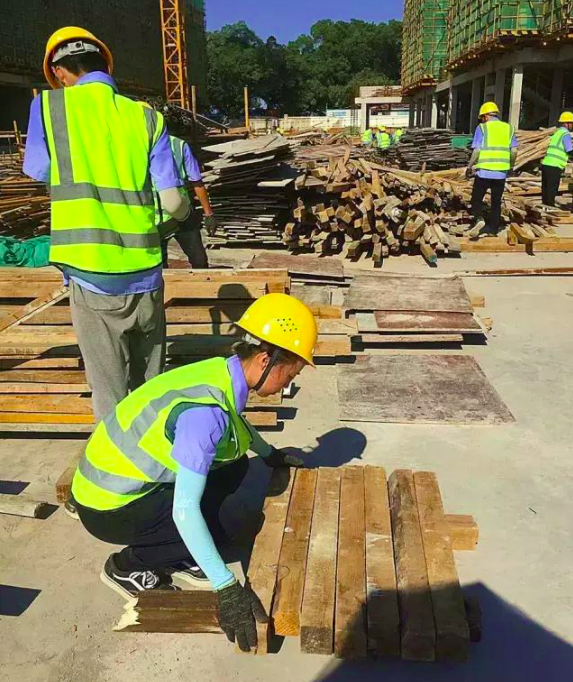person: (67, 291, 319, 653), (15, 27, 179, 441), (458, 102, 518, 239), (538, 111, 572, 211)
